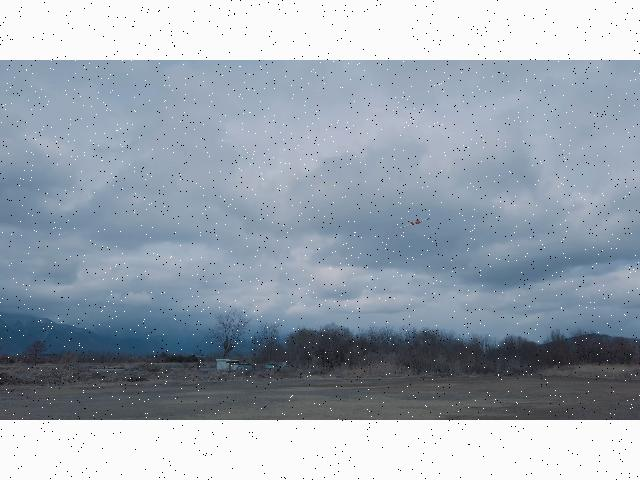Anti-Drone: (396, 215, 432, 230)
